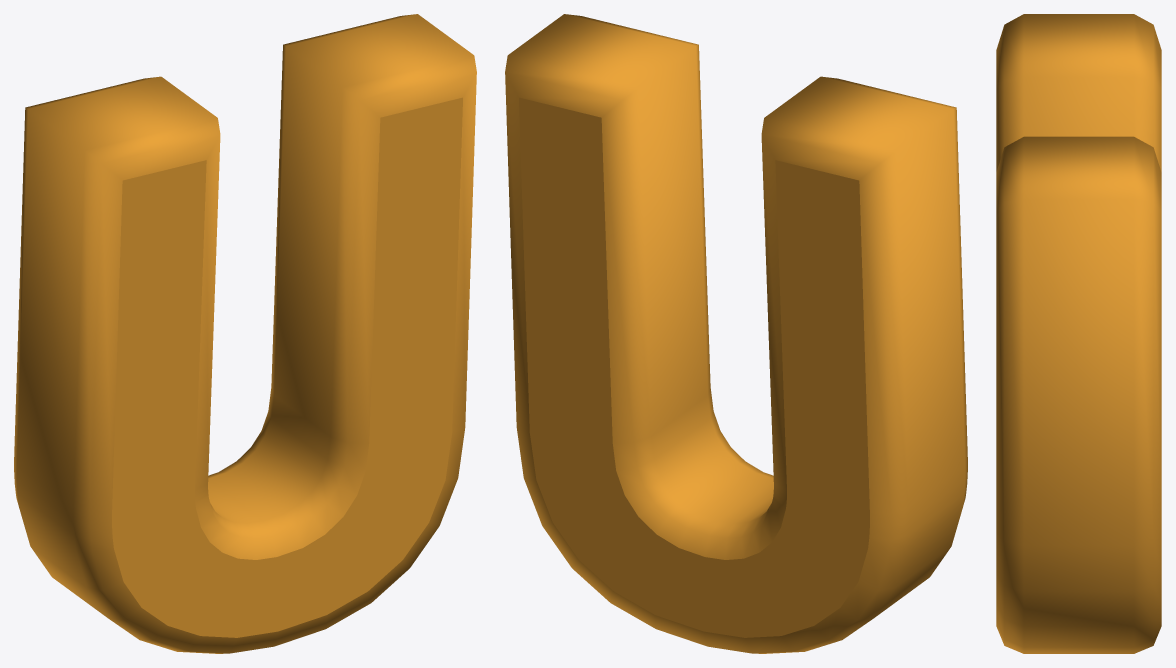
The model's file is U_Caps.fbx.
3 renders of one model, left to right at view 1: azimuth 30°, elevation 25°; view 2: azimuth 150°, elevation 25°; view 3: azimuth 270°, elevation 25°, orthographic. The views are drawn at different scales.
Parts seen in each view (by area): view 1: U; view 2: U; view 3: U.
Boxes of the visible parts, <box> form: U: <box>14,14,476,653</box>; U: <box>505,14,967,653</box>; U: <box>996,14,1161,653</box>.
Size of the model in its own units: 0.4916 by 0.633 by 0.18.
